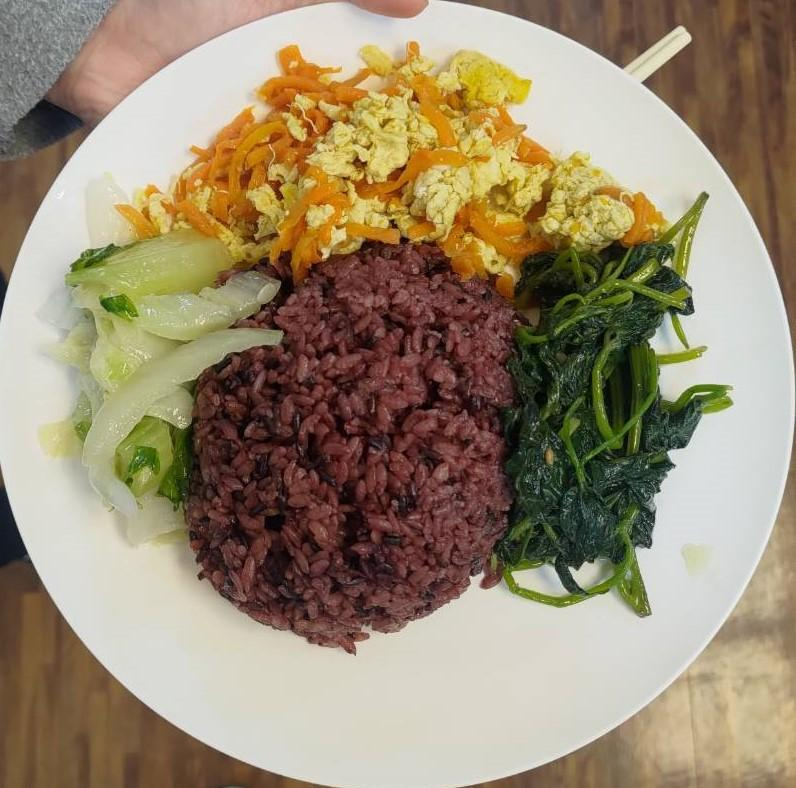big fried chicken leg: (9, 4, 792, 785)
braised fish: (184, 255, 536, 636)
braised fish fillet: (140, 53, 648, 280), (496, 229, 724, 594), (49, 205, 257, 518)
